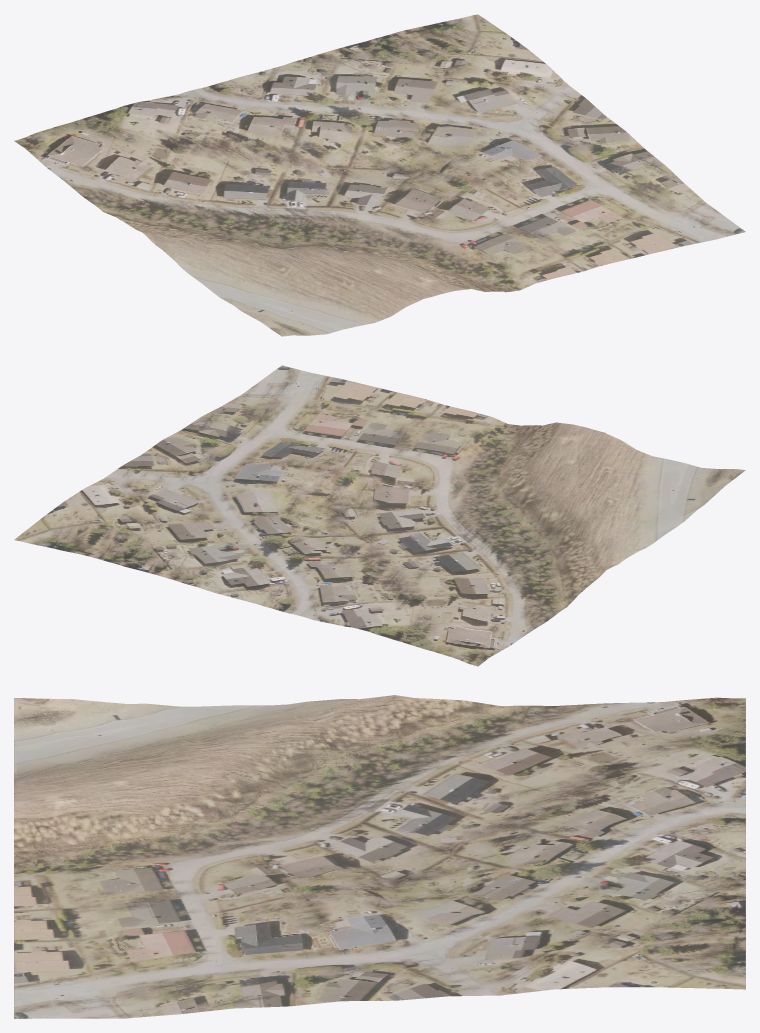
Rendered from CM_Terrain_24492506_6814879.fbx.
3 views of the same model, one above another, from view 1: azimuth 30°, elevation 25°; view 2: azimuth 150°, elevation 25°; view 3: azimuth 270°, elevation 25° (orthographic). The views are drawn at different scales.
Visible parts, largest first — view 1: CM_Terrain_24492506_6814879_LOD0; view 2: CM_Terrain_24492506_6814879_LOD0; view 3: CM_Terrain_24492506_6814879_LOD0.
Part boxes in pixels (bbox=[...]): CM_Terrain_24492506_6814879_LOD0: bbox=[14, 14, 745, 336]; CM_Terrain_24492506_6814879_LOD0: bbox=[14, 365, 745, 666]; CM_Terrain_24492506_6814879_LOD0: bbox=[14, 695, 745, 1018].
Size of what is drawn, in the model's own units: 205 by 11.46 by 205.
